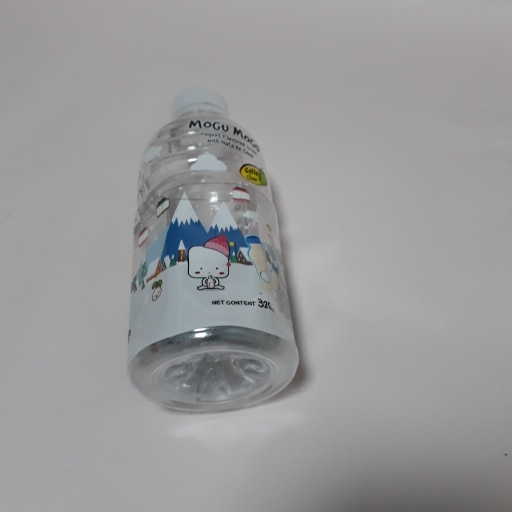Plastic_0: (124, 84, 301, 408)
